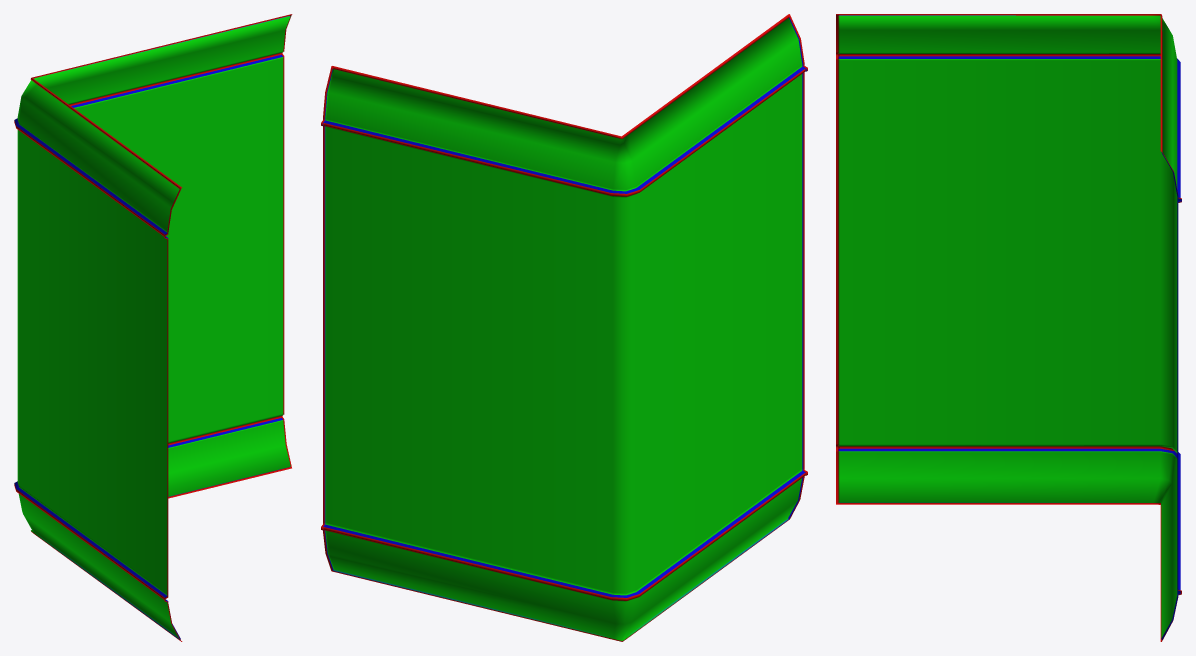
Rendered from ModularWallCorner_1.fbx.
The picture shows the model from 3 angles, left to right: view 1: azimuth 30°, elevation 25°; view 2: azimuth 150°, elevation 25°; view 3: azimuth 270°, elevation 25°; orthographic projection. The views are drawn at different scales.
Parts seen in each view (by area): view 1: Cube.001; view 2: Cube.001; view 3: Cube.001.
Boxes of the visible parts, left/top/right/bottom form: Cube.001: left=14, top=14, right=292, bottom=641; Cube.001: left=321, top=14, right=807, bottom=641; Cube.001: left=836, top=14, right=1181, bottom=641.
Size of the model in its own units: 640 by 1000 by 640.
